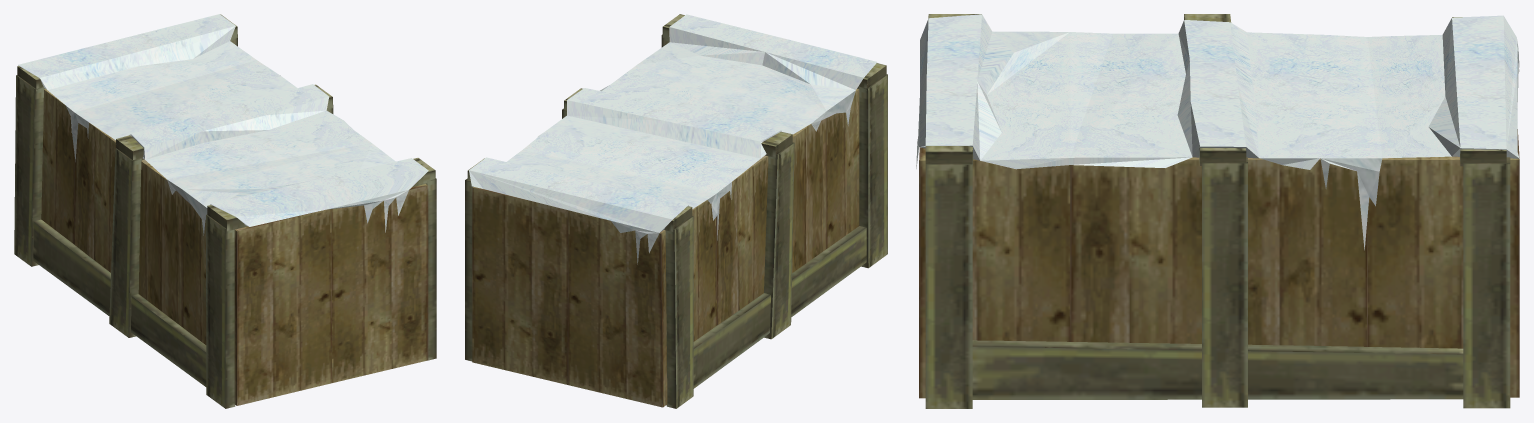
File: C1SMCRATELARGEH.obj
3 renders of one model, left to right at view 1: azimuth 30°, elevation 25°; view 2: azimuth 150°, elevation 25°; view 3: azimuth 270°, elevation 25°, orthographic. The views are drawn at different scales.
Parts seen in each view (by area): view 1: Node 0; view 2: Node 0; view 3: Node 0.
Boxes of the visible parts, left/top/right/bottom form: Node 0: left=14, top=14, right=436, bottom=408; Node 0: left=465, top=14, right=887, bottom=408; Node 0: left=916, top=14, right=1519, bottom=408.
Bounding box in the file's own units: 3.51 × 3.03 × 6.42.
Materials: 4 (4 with a texture image).
